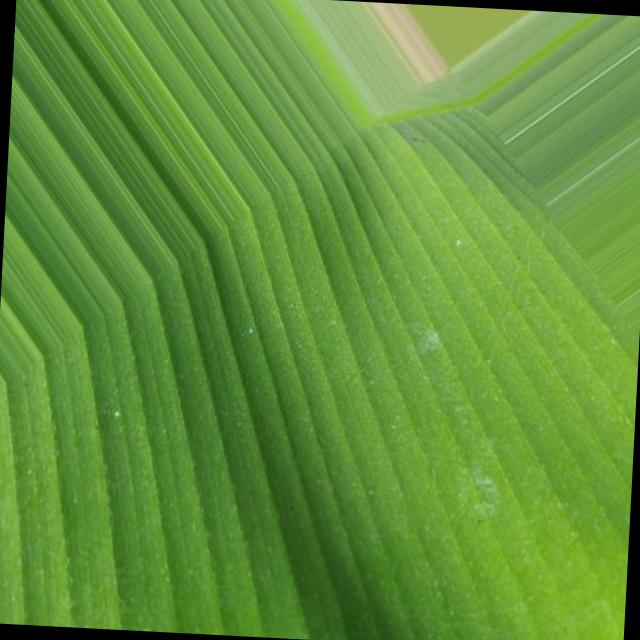Banana_Healthy: (188, 228, 616, 612)
